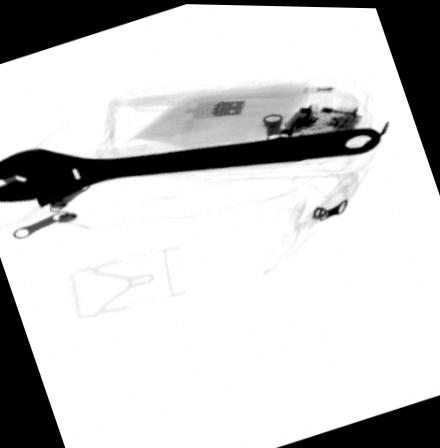Wrench: (0, 123, 382, 209)
